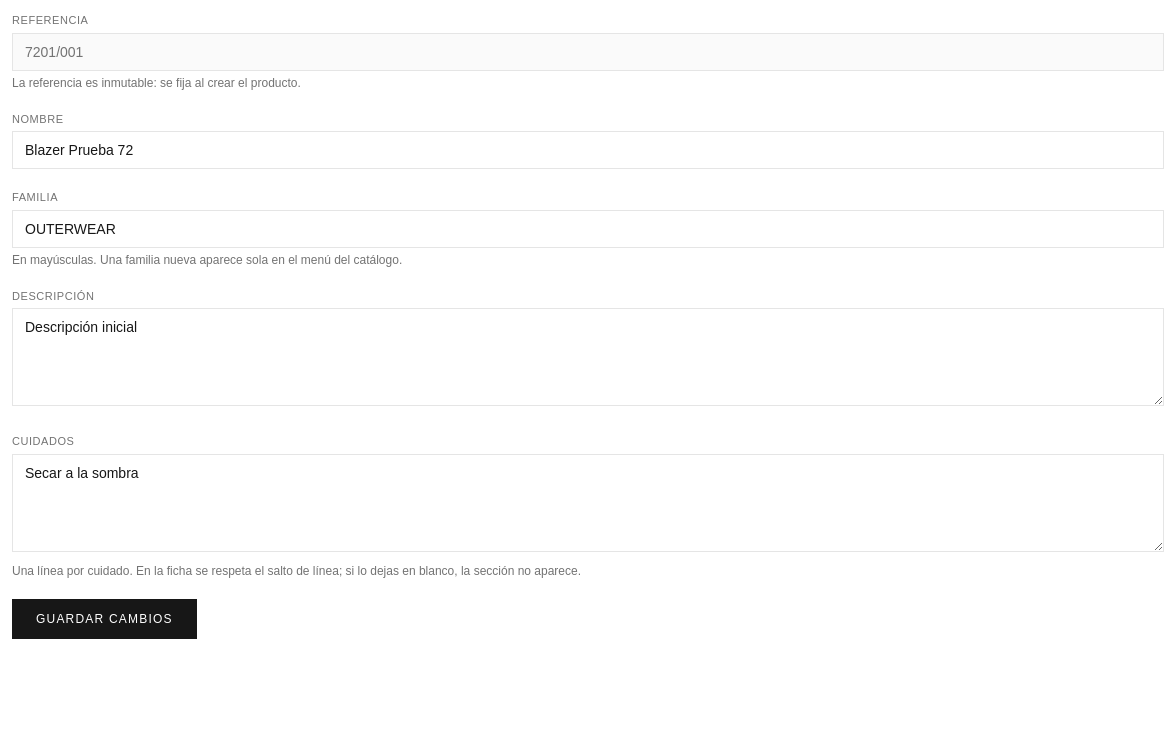
Test: AdminProductForm › cuidados en blanco al editar: se cargan, se borran y el payload va sin ellos (R4)
# WHEN — el operador los deja en blanco para quitarlos
Clear the text box labelled "Cuidados" at (588, 502), box x1=12 y1=454 x2=1164 y2=552
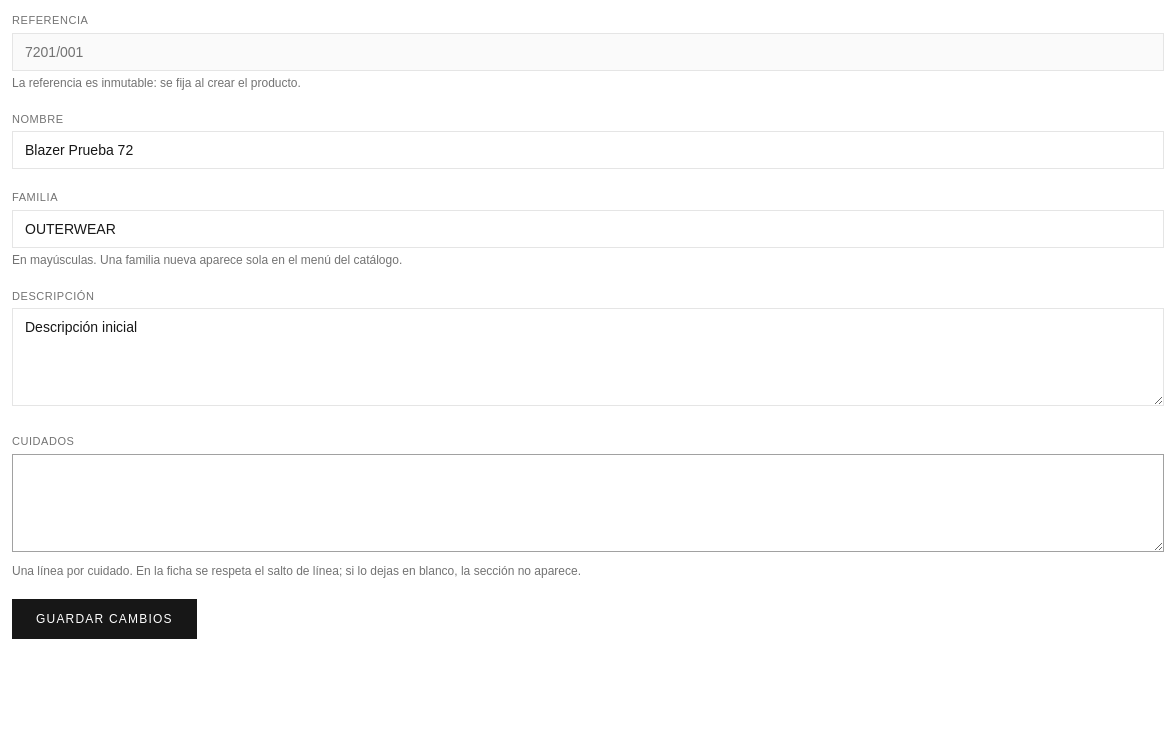
Click the button "Guardar cambios" at (104, 618), box x1=12 y1=598 x2=197 y2=638
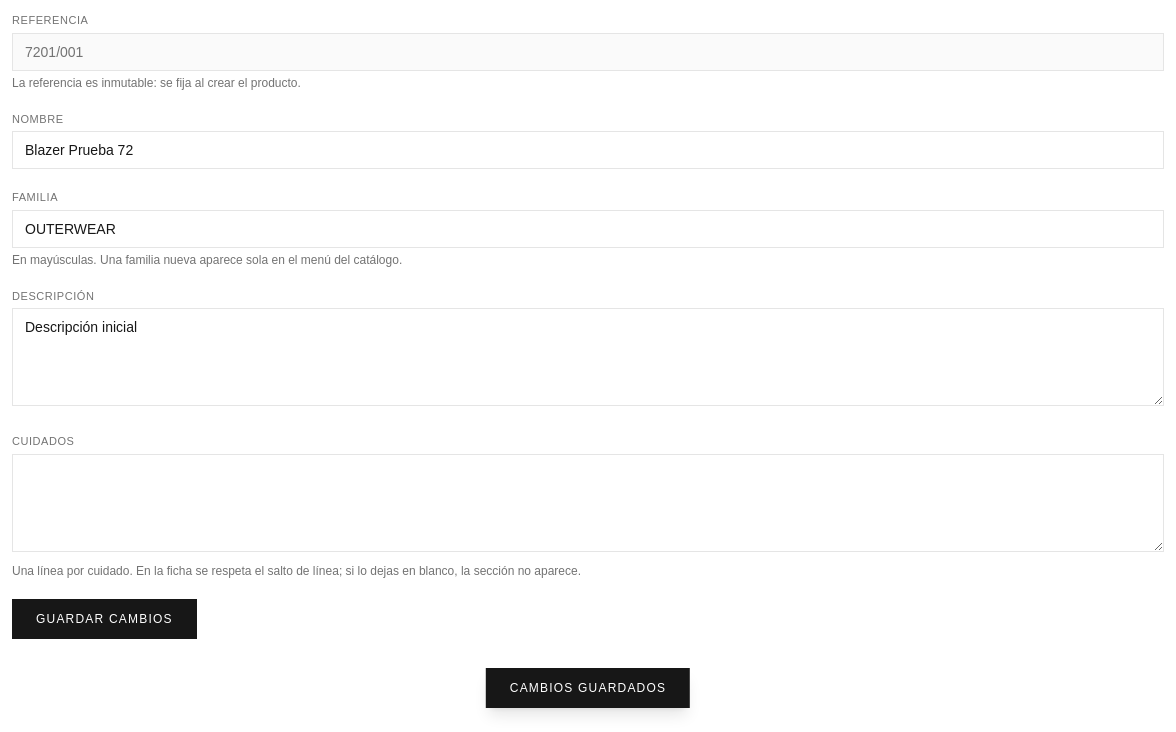
Now the text "Cambios guardados" is shown, box x1=486 y1=668 x2=690 y2=708
